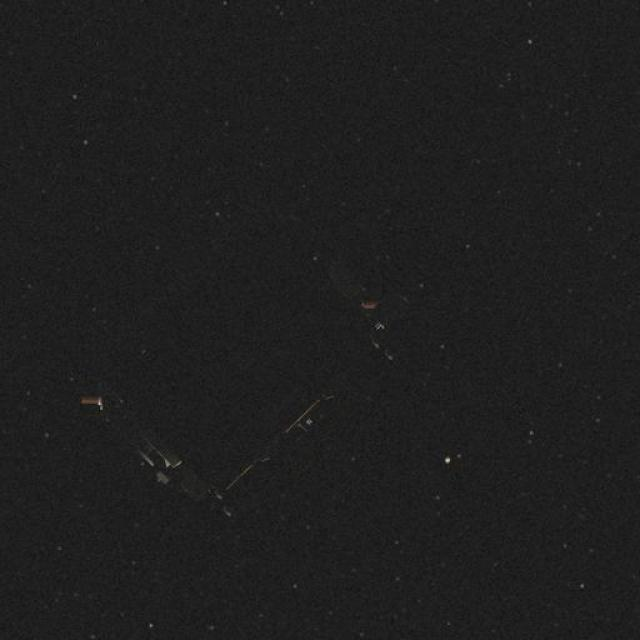proba_2: (136, 244, 370, 502)
